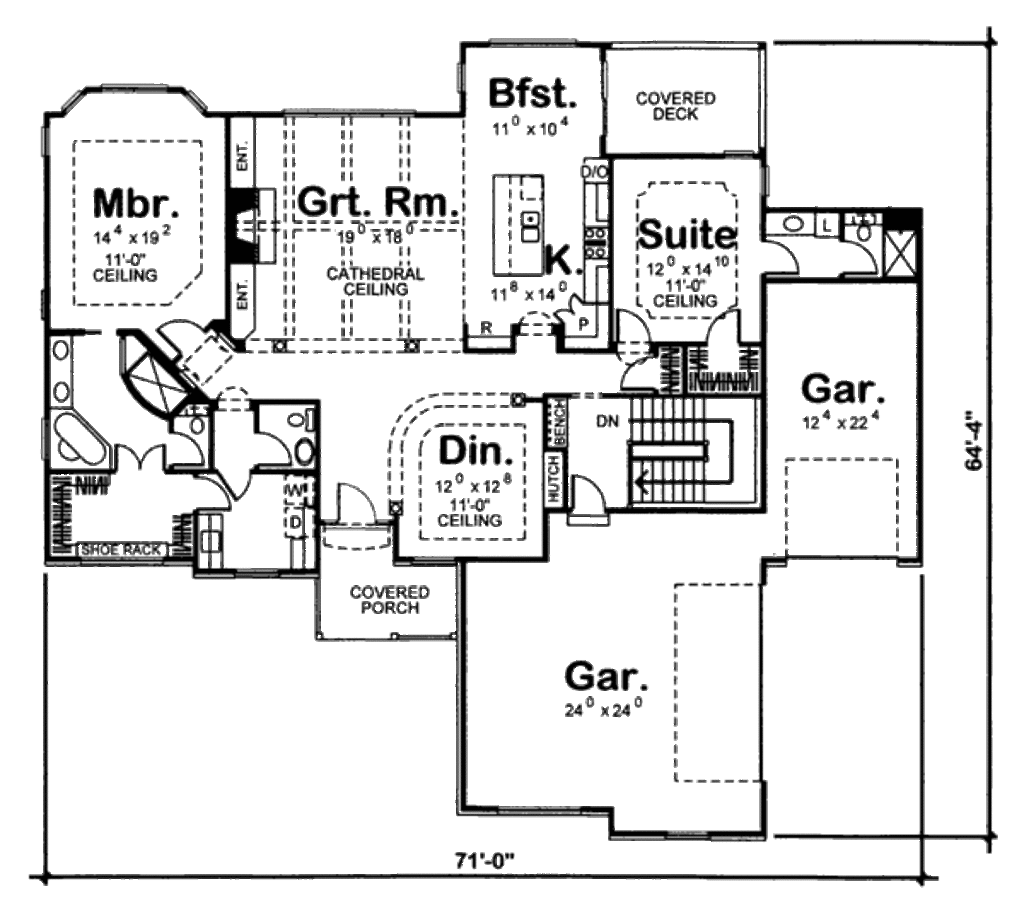door: (555, 466, 634, 544), (618, 343, 685, 403), (322, 477, 386, 531), (751, 228, 812, 283), (151, 310, 219, 358), (835, 234, 884, 284), (201, 457, 256, 501), (188, 476, 246, 514), (692, 300, 741, 344), (108, 444, 169, 477), (548, 288, 594, 328), (161, 431, 206, 467), (245, 430, 288, 467)
kitchen_bar: (481, 164, 558, 290)
large_sink: (269, 401, 325, 436), (844, 214, 881, 248)
small_sink: (44, 334, 79, 407), (765, 206, 814, 234), (286, 433, 315, 470)
stairs: (558, 398, 762, 511)
twin_sink: (506, 197, 552, 251)
window: (54, 80, 214, 113), (265, 106, 421, 123), (486, 34, 581, 51), (451, 60, 486, 104), (36, 121, 58, 158)
